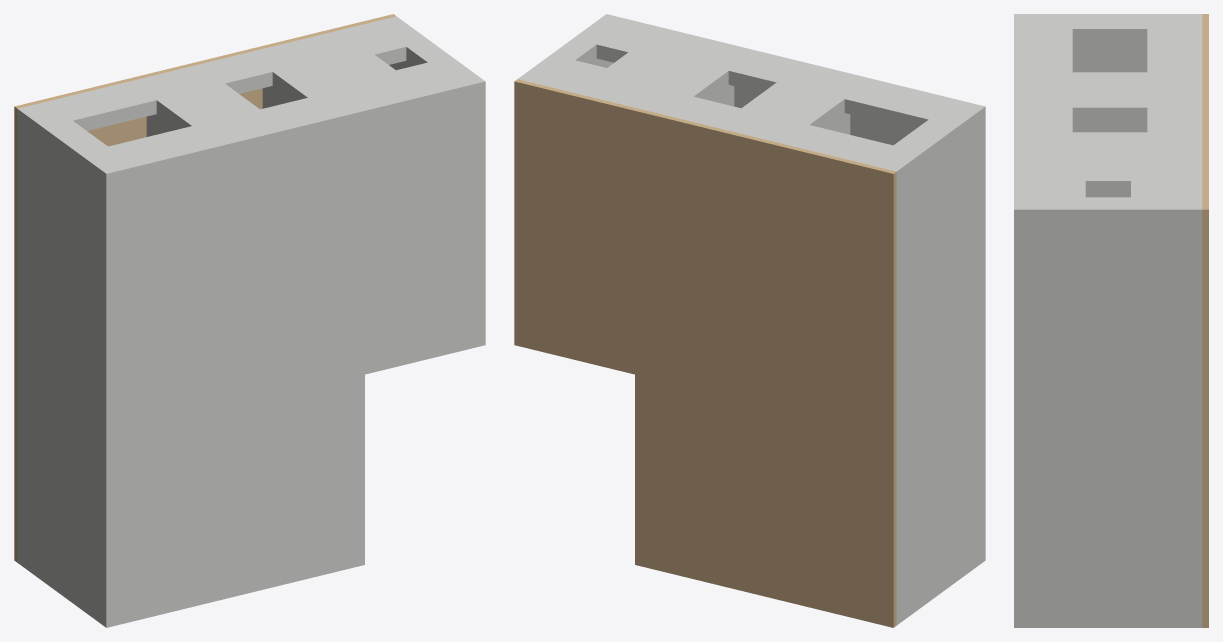
File: Apartment Plan v1.fbx
3 renders of one model, left to right at view 1: azimuth 30°, elevation 25°; view 2: azimuth 150°, elevation 25°; view 3: azimuth 270°, elevation 25°, orthographic. The views are drawn at different scales.
Parts seen in each view (by area): view 1: Roof, Outer Walls, Floor, Bed room Walls, Kitchen Walls; view 2: Floor, Outer Walls, Roof, Bed room Walls; view 3: Outer Walls, Roof, Floor, Bed room Walls, Kitchen Walls, Bathroom Walls.
Part boxes in pixels (bbox=[...]): Roof: bbox=[100, 77, 485, 627]; Outer Walls: bbox=[17, 16, 478, 622]; Floor: bbox=[14, 14, 395, 562]; Bed room Walls: bbox=[83, 110, 181, 136]; Kitchen Walls: bbox=[235, 81, 297, 108]; Floor: bbox=[514, 79, 896, 627]; Outer Walls: bbox=[517, 18, 979, 625]; Roof: bbox=[600, 14, 985, 564]; Bed room Walls: bbox=[820, 109, 917, 134]; Outer Walls: bbox=[1027, 14, 1202, 627]; Roof: bbox=[1014, 14, 1026, 627]; Floor: bbox=[1202, 14, 1208, 627]; Bed room Walls: bbox=[1072, 39, 1147, 72]; Kitchen Walls: bbox=[1072, 118, 1147, 132]; Bathroom Walls: bbox=[1085, 191, 1130, 197].
Bounding box in the file's own units: 713 × 816 × 300.
